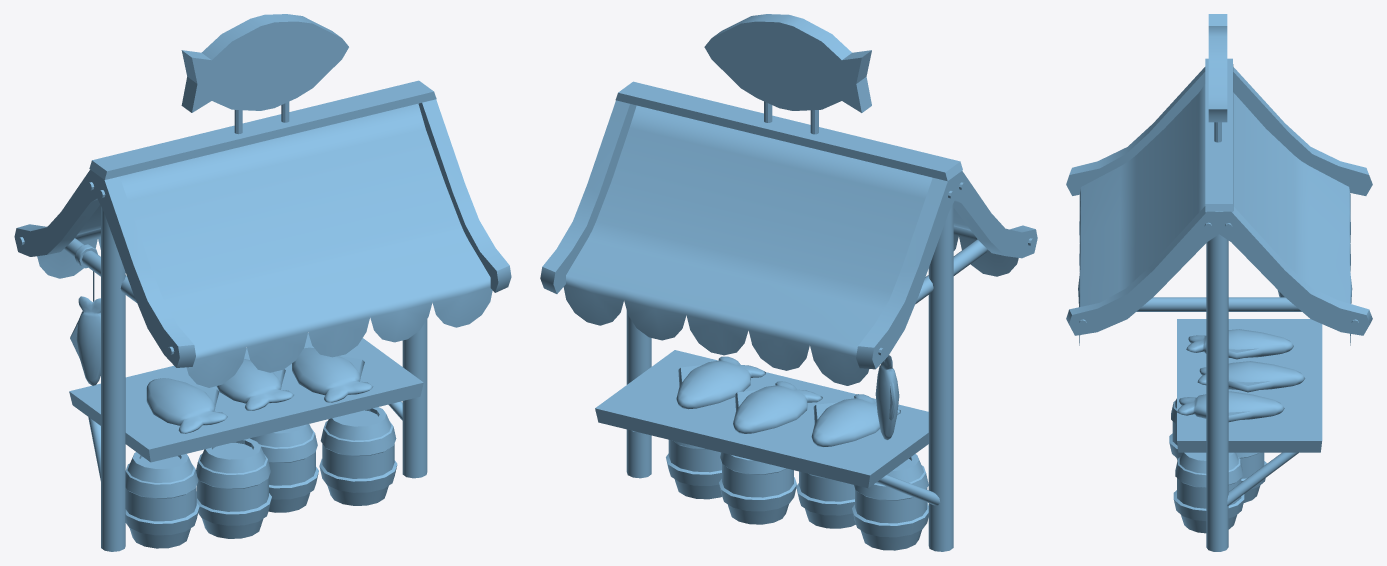
The model's file is building_16.fbx.
The picture shows the model from 3 angles, left to right: view 1: azimuth 30°, elevation 25°; view 2: azimuth 150°, elevation 25°; view 3: azimuth 270°, elevation 25°; orthographic projection. The views are drawn at different scales.
Visible parts, largest first — view 1: arch_low; view 2: arch_low; view 3: arch_low.
Boxes of the visible parts, x1,y1,x2,y2 form: arch_low: [14, 14, 511, 551]; arch_low: [540, 14, 1037, 551]; arch_low: [1066, 14, 1372, 551].
Size of the model in its own units: 769 by 1076 by 667.
